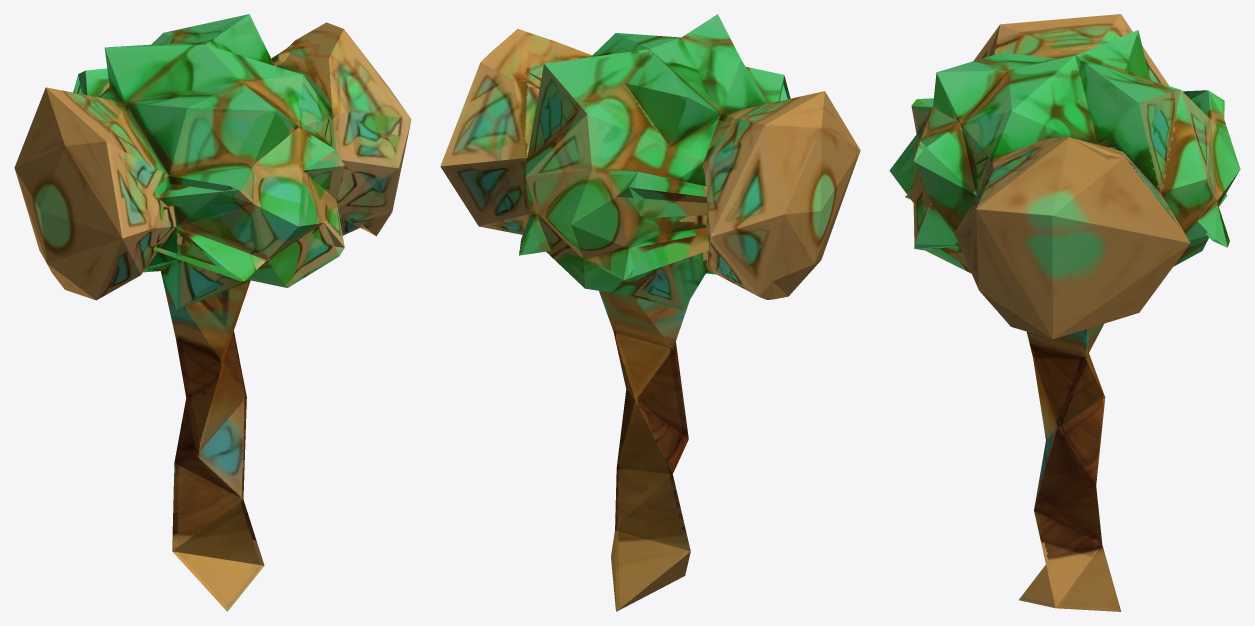
File: magic_staff_prop.glb
3 renders of one model, left to right at view 1: azimuth 30°, elevation 25°; view 2: azimuth 150°, elevation 25°; view 3: azimuth 270°, elevation 25°, orthographic.
Parts seen in each view (by area): view 1: TexturedMesh_.obj; view 2: TexturedMesh_.obj; view 3: TexturedMesh_.obj.
Part boxes in pixels (left/top/right/bottom): TexturedMesh_.obj: left=14, top=14, right=411, bottom=611; TexturedMesh_.obj: left=440, top=14, right=860, bottom=611; TexturedMesh_.obj: left=889, top=14, right=1240, bottom=611.
Size of the model in its own units: 1.18 by 1.82 by 1.05.
Materials: 1 (1 with a texture image).
